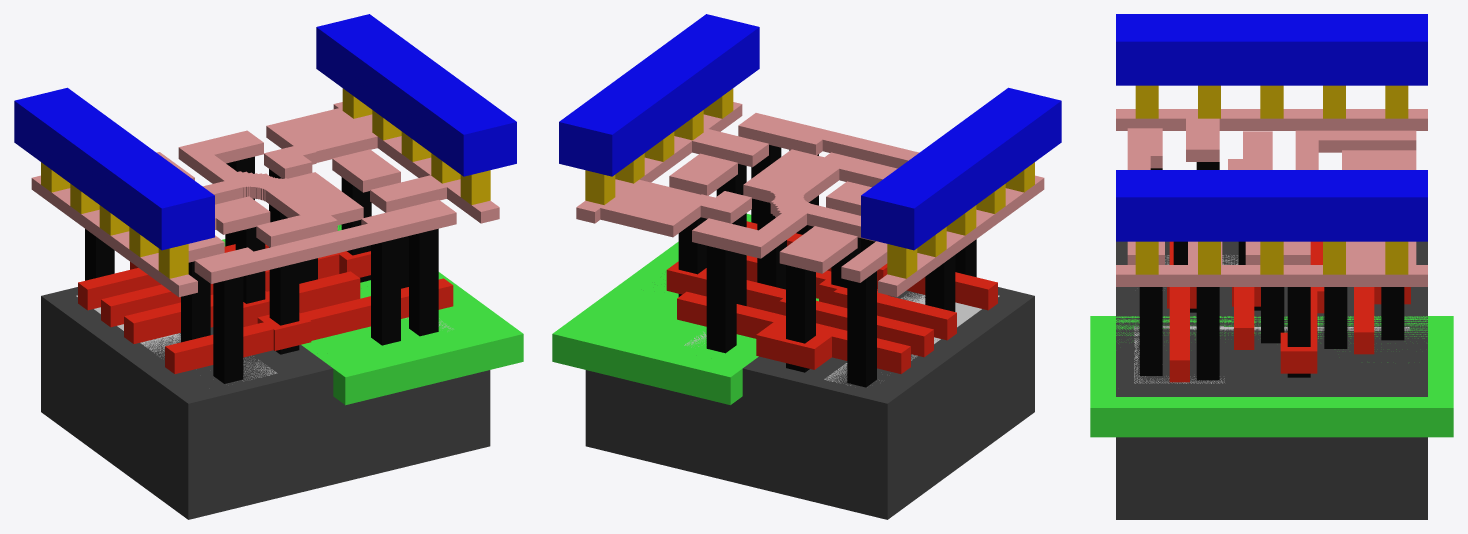
File: sky130_fd_sc_hd__and3_1.obj
3 renders of one model, left to right at view 1: azimuth 30°, elevation 25°; view 2: azimuth 150°, elevation 25°; view 3: azimuth 270°, elevation 25°, orthographic. The views are drawn at different scales.
Parts seen in each view (by area): view 1: subs, metal1, li, licon, poly, nwell, mcon, diff; view 2: subs, metal1, li, nwell, licon, poly, mcon, diff; view 3: subs, metal1, li, nwell, licon, mcon, poly, tap.
Boxes of the visible parts, left/top/right/bottom form: subs: left=41, top=226, right=490, bottom=519; metal1: left=14, top=14, right=516, bottom=250; li: left=31, top=102, right=499, bottom=297; licon: left=85, top=156, right=438, bottom=383; poly: left=78, top=244, right=453, bottom=373; nwell: left=222, top=225, right=523, bottom=405; mcon: left=41, top=88, right=490, bottom=278; diff: left=76, top=295, right=277, bottom=381; subs: left=585, top=287, right=1034, bottom=519; metal1: left=559, top=14, right=1061, bottom=250; li: left=576, top=102, right=1044, bottom=297; nwell: left=552, top=214, right=818, bottom=405; licon: left=678, top=145, right=976, bottom=387; poly: left=666, top=221, right=997, bottom=373; mcon: left=585, top=88, right=1034, bottom=278; diff: left=824, top=292, right=999, bottom=385; subs: left=1116, top=241, right=1427, bottom=519; metal1: left=1116, top=14, right=1427, bottom=241; li: left=1116, top=109, right=1427, bottom=286; nwell: left=1090, top=316, right=1453, bottom=437; licon: left=1139, top=162, right=1404, bottom=380; mcon: left=1135, top=85, right=1408, bottom=274; poly: left=1167, top=241, right=1410, bottom=382; tap: left=1134, top=326, right=1409, bottom=383.
Bounding box in the file's own units: 3.2 × 2.74 × 2.68.
